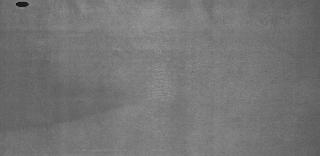punching hole: (14, 0, 31, 8)
